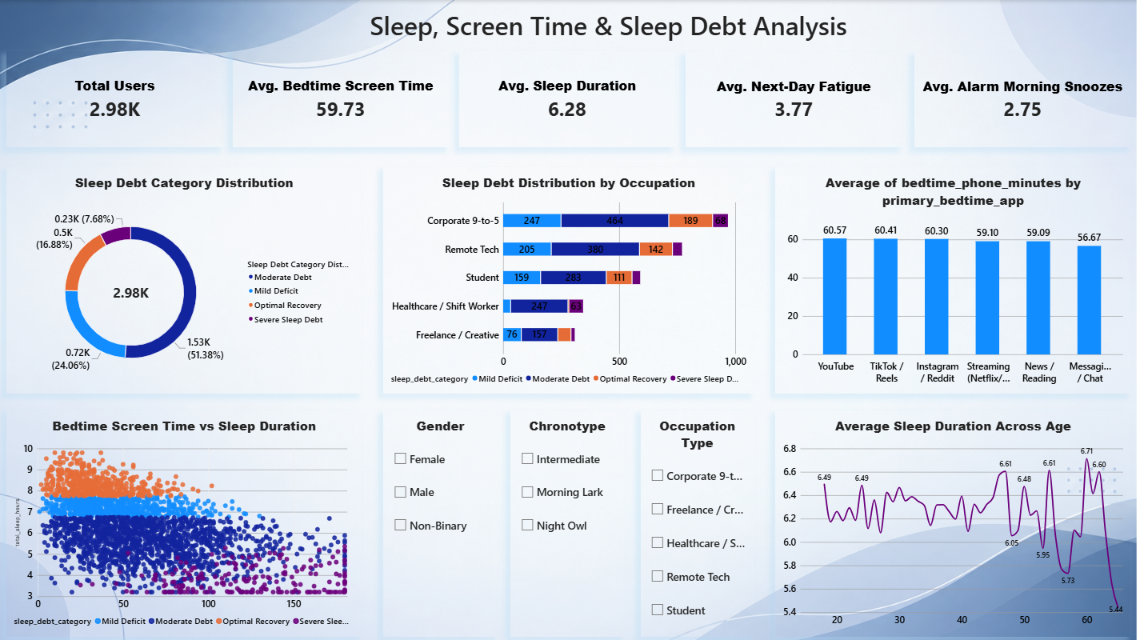

Layout of this report page (visuals, bound fields, positions):
{"tool":"powerbi","page":{"name":"Page 1","canvas":[2380,1350],"ordinal":0},"visuals":[{"type":"cardVisual","fields":{"Data":["Count(asna_db_kaggle bedtime_screentime_sleep_debt.user_id)"]},"box":[15.8,106.3,452.4,201.3],"z":0},{"type":"cardVisual","fields":{"Data":["Avg(asna_db_kaggle bedtime_screentime_sleep_debt.bedtime_phone_minutes)"]},"box":[488.6,106.3,452.4,201.3],"z":1000},{"type":"cardVisual","fields":{"Data":["Avg(asna_db_kaggle bedtime_screentime_sleep_debt.total_sleep_hours)"]},"box":[961.4,106.3,450.2,201.3],"z":2000},{"type":"cardVisual","fields":{"Data":["Avg(asna_db_kaggle bedtime_screentime_sleep_debt.next_day_fatigue_score)"]},"box":[1434.2,108.6,452.4,199.1],"z":3000},{"type":"cardVisual","fields":{"Data":["Avg(asna_db_kaggle bedtime_screentime_sleep_debt.morning_alarm_snoozes)"]},"box":[1911.5,108.6,452.4,199.1],"z":4000},{"type":"donutChart","title":"Sleep Debt Category Distribution","fields":{"Category":["asna_db_kaggle bedtime_screentime_sleep_debt.sleep_debt_category"],"Y":["CountNonNull(asna_db_kaggle bedtime_screentime_sleep_debt.user_id)"]},"box":[15.8,348.4,742,472.8],"z":5000},{"type":"barChart","title":"Sleep Debt Distribution by Occupation","fields":{"Category":["asna_db_kaggle bedtime_screentime_sleep_debt.occupation_type"],"Series":["asna_db_kaggle bedtime_screentime_sleep_debt.sleep_debt_category"],"Y":["CountNonNull(asna_db_kaggle bedtime_screentime_sleep_debt.user_id)"]},"box":[803,348.4,773.6,472.8],"z":6000},{"type":"scatterChart","title":"Bedtime Screen Time vs Sleep Duration","fields":{"Series":["asna_db_kaggle bedtime_screentime_sleep_debt.sleep_debt_category"],"X":["asna_db_kaggle bedtime_screentime_sleep_debt.bedtime_phone_minutes"],"Y":["asna_db_kaggle bedtime_screentime_sleep_debt.total_sleep_hours"]},"box":[15.8,855.1,742,472.8],"z":7000},{"type":"lineStackedColumnComboChart","fields":{"Category":["asna_db_kaggle bedtime_screentime_sleep_debt.primary_bedtime_app"],"Y":["Avg(asna_db_kaggle bedtime_screentime_sleep_debt.bedtime_phone_minutes)"]},"box":[1621.9,348.4,742,472.8],"z":8000},{"type":"slicer","title":"Gender","fields":{"Values":["asna_db_kaggle bedtime_screentime_sleep_debt.gender"]},"box":[803,855.1,237.5,472.8],"z":9000},{"type":"lineChart","title":"Average Sleep Duration Across Age ","fields":{"Category":["asna_db_kaggle bedtime_screentime_sleep_debt.age"],"Y":["Avg(asna_db_kaggle bedtime_screentime_sleep_debt.total_sleep_hours)"]},"box":[1621.9,855.1,742,472.8],"z":10000},{"type":"textbox","box":[749.3,17.4,1047.8,71.9],"z":11000},{"type":"slicer","title":"Chronotype","fields":{"Values":["asna_db_kaggle bedtime_screentime_sleep_debt.chronotype"]},"box":[1067.7,855.1,237.5,472.8],"z":12000},{"type":"slicer","title":"Occupation Type","fields":{"Values":["asna_db_kaggle bedtime_screentime_sleep_debt.occupation_type"]},"box":[1339.1,855.1,237.5,472.8],"z":13000}]}

Visuals, with their boxes in screenshot pixels (x1, y1, x2, y2), scaled from the page's 2380x1350 canvas onto the 1137x641 screenshot:
cardVisual - Count(asna_db_kaggle bedtime_screentime_sleep_debt.user_id): (x1=8, y1=50, x2=224, y2=146)
cardVisual - Avg(asna_db_kaggle bedtime_screentime_sleep_debt.bedtime_phone_minutes): (x1=233, y1=50, x2=450, y2=146)
cardVisual - Avg(asna_db_kaggle bedtime_screentime_sleep_debt.total_sleep_hours): (x1=459, y1=50, x2=674, y2=146)
cardVisual - Avg(asna_db_kaggle bedtime_screentime_sleep_debt.next_day_fatigue_score): (x1=685, y1=52, x2=901, y2=146)
cardVisual - Avg(asna_db_kaggle bedtime_screentime_sleep_debt.morning_alarm_snoozes): (x1=913, y1=52, x2=1129, y2=146)
"Sleep Debt Category Distribution" donutChart: (x1=8, y1=165, x2=362, y2=390)
"Sleep Debt Distribution by Occupation" barChart: (x1=384, y1=165, x2=753, y2=390)
"Bedtime Screen Time vs Sleep Duration" scatterChart: (x1=8, y1=406, x2=362, y2=631)
lineStackedColumnComboChart - asna_db_kaggle bedtime_screentime_sleep_debt.primary_bedtime_app x Avg(asna_db_kaggle bedtime_screentime_sleep_debt.bedtime_phone_minutes): (x1=775, y1=165, x2=1129, y2=390)
"Gender" slicer: (x1=384, y1=406, x2=497, y2=631)
"Average Sleep Duration Across Age " lineChart: (x1=775, y1=406, x2=1129, y2=631)
textbox: (x1=358, y1=8, x2=859, y2=42)
"Chronotype" slicer: (x1=510, y1=406, x2=624, y2=631)
"Occupation Type" slicer: (x1=640, y1=406, x2=753, y2=631)
